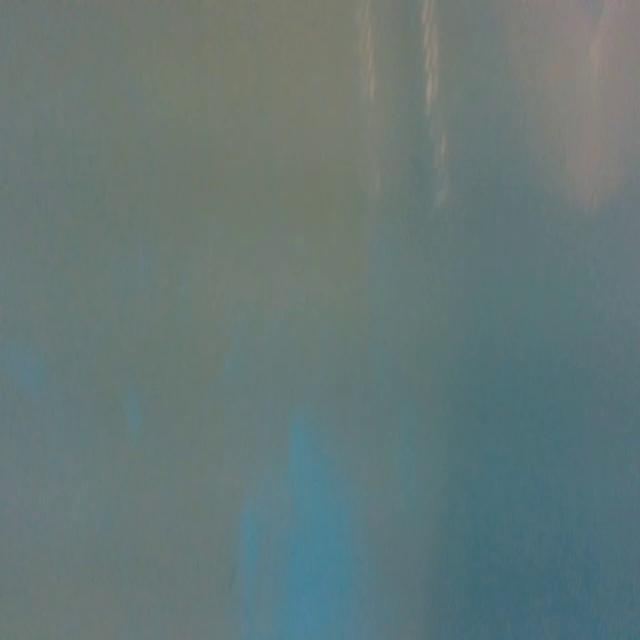plastic bottle: (350, 0, 456, 243)
